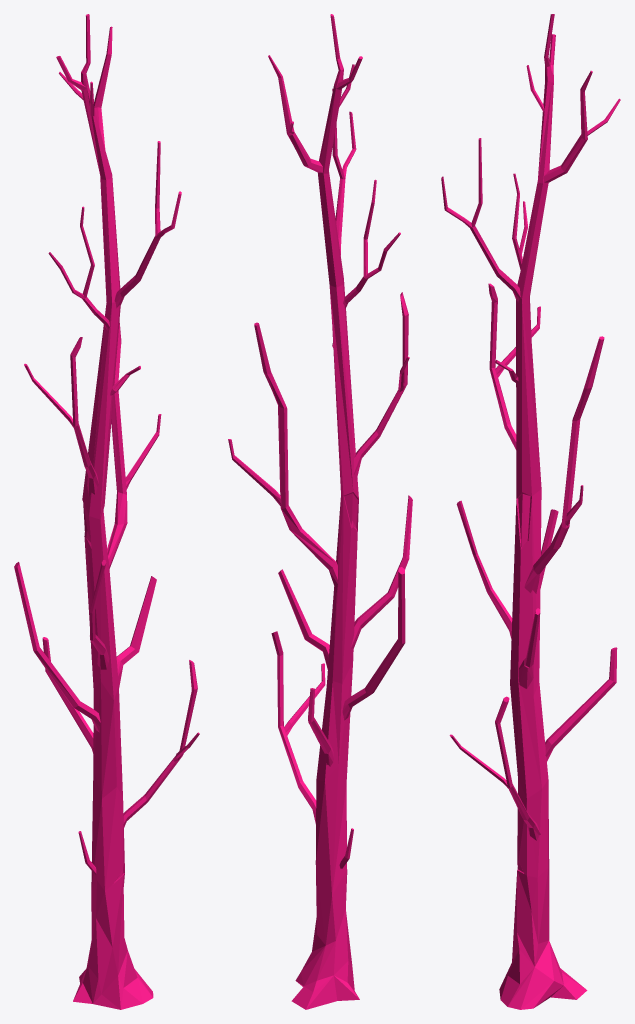
Rendered from SM_Tree_Poplar_Dead_B.fbx.
3 views of the same model, side by side, from view 1: azimuth 30°, elevation 25°; view 2: azimuth 150°, elevation 25°; view 3: azimuth 270°, elevation 25° (orthographic).
Parts seen in each view (by area): view 1: SM_Tree_Poplar_Dead_B; view 2: SM_Tree_Poplar_Dead_B; view 3: SM_Tree_Poplar_Dead_B.
Boxes of the visible parts, left/top/right/bottom form: SM_Tree_Poplar_Dead_B: left=14, top=14, right=199, bottom=1009; SM_Tree_Poplar_Dead_B: left=228, top=14, right=412, bottom=1009; SM_Tree_Poplar_Dead_B: left=441, top=14, right=620, bottom=1009.
Size of the model in its own units: 2.52 by 14.6 by 2.44.
